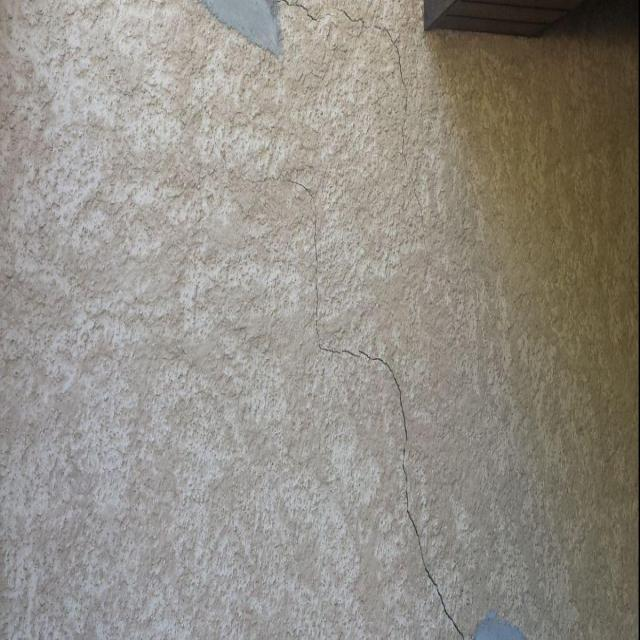crack: (240, 172, 468, 638), (286, 1, 425, 235)
